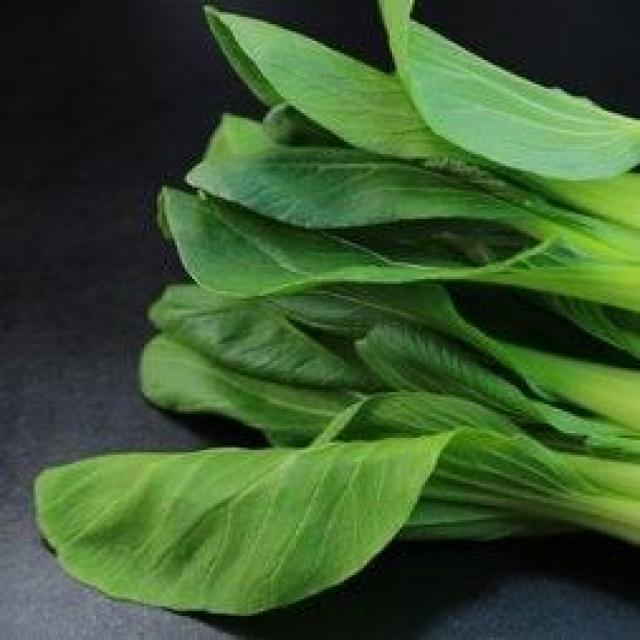-Kitchen waste - vegetable roots and leaves-: (28, 436, 640, 606), (145, 284, 640, 426), (162, 185, 640, 315), (191, 122, 640, 259), (207, 4, 482, 170), (386, 4, 640, 179)
